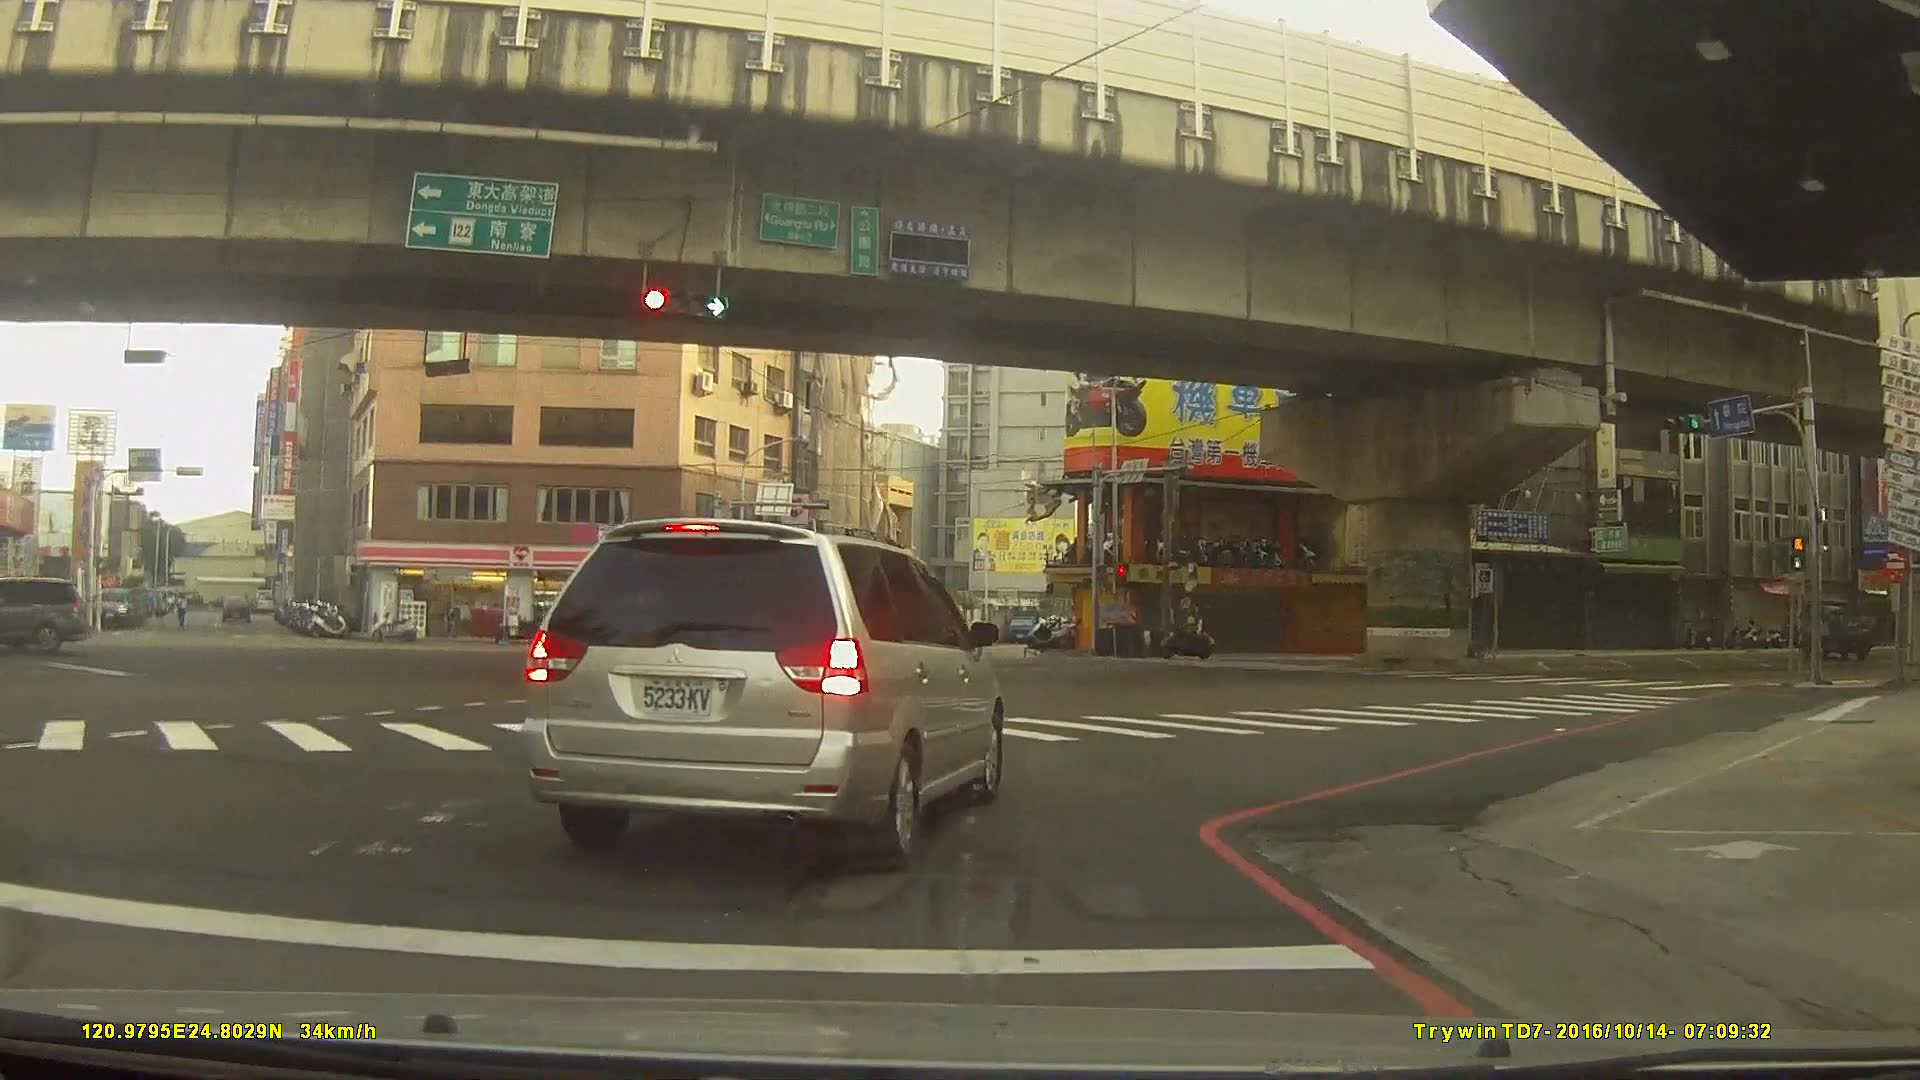rider: (1159, 603, 1216, 659)
vehicle: (516, 515, 1006, 868), (0, 573, 89, 652), (1792, 594, 1871, 659), (866, 621, 932, 659), (88, 586, 131, 631), (543, 606, 605, 633), (214, 593, 249, 623)
